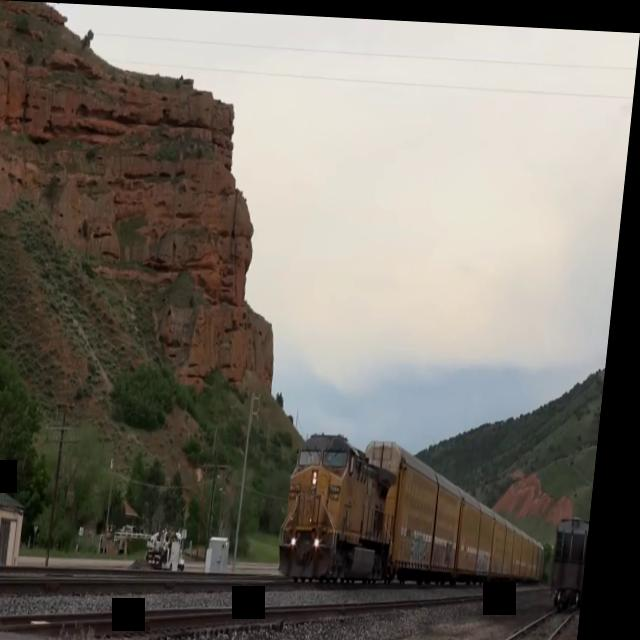autorack: (364, 433, 452, 589), (439, 467, 477, 584), (465, 476, 495, 583)
locomotive: (283, 421, 414, 591)
